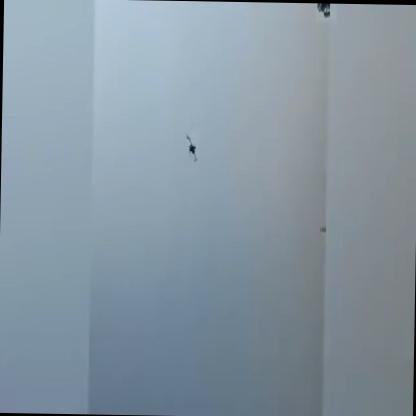drone: (179, 129, 202, 165)
